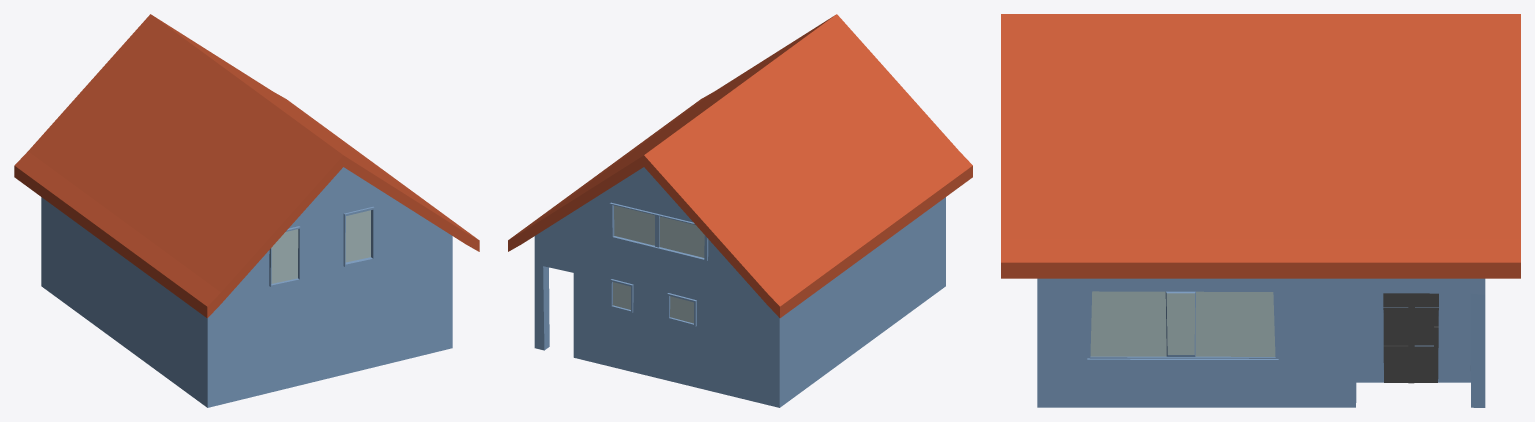
File: house_ver1_0914.fbx
3 renders of one model, left to right at view 1: azimuth 30°, elevation 25°; view 2: azimuth 150°, elevation 25°; view 3: azimuth 270°, elevation 25°, orthographic. The views are drawn at different scales.
Parts seen in each view (by area): view 1: Cube; view 2: Cube; view 3: Cube.
Part boxes in pixels (x1,y1,x2,y2): Cube: [14, 14, 479, 407]; Cube: [508, 14, 972, 407]; Cube: [1001, 14, 1520, 407].
Bounding box in the file's own units: 1346 × 1100 × 1654.
